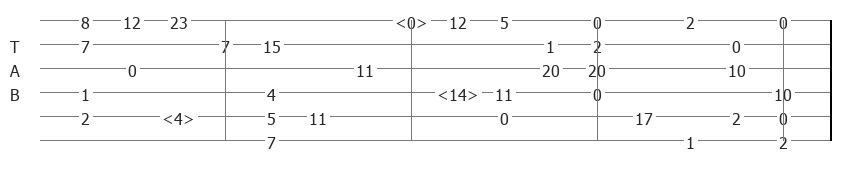0: (128, 60, 141, 76), (500, 108, 513, 124), (593, 84, 606, 100), (593, 12, 606, 28), (732, 36, 745, 52), (779, 12, 792, 28), (779, 108, 792, 124)
1: (81, 84, 94, 100), (546, 36, 559, 52), (686, 132, 699, 148)
10: (728, 60, 750, 76), (774, 84, 796, 100)
11: (309, 108, 331, 124), (356, 60, 378, 76), (495, 84, 517, 100)
12: (123, 12, 145, 28), (449, 12, 471, 28)
15: (263, 36, 285, 52)
17: (635, 108, 657, 124)
2: (81, 108, 94, 124), (593, 36, 606, 52), (686, 12, 699, 28), (732, 108, 745, 124), (779, 132, 792, 148)
20: (542, 60, 564, 76), (588, 60, 610, 76)
23: (170, 12, 192, 28)
4: (267, 84, 280, 100)
5: (267, 108, 280, 124), (500, 12, 513, 28)
7: (81, 36, 94, 52), (221, 36, 234, 52), (267, 132, 280, 148)
8: (81, 12, 94, 28)
harmonic: (437, 84, 483, 100), (162, 108, 199, 124), (395, 12, 432, 28)
